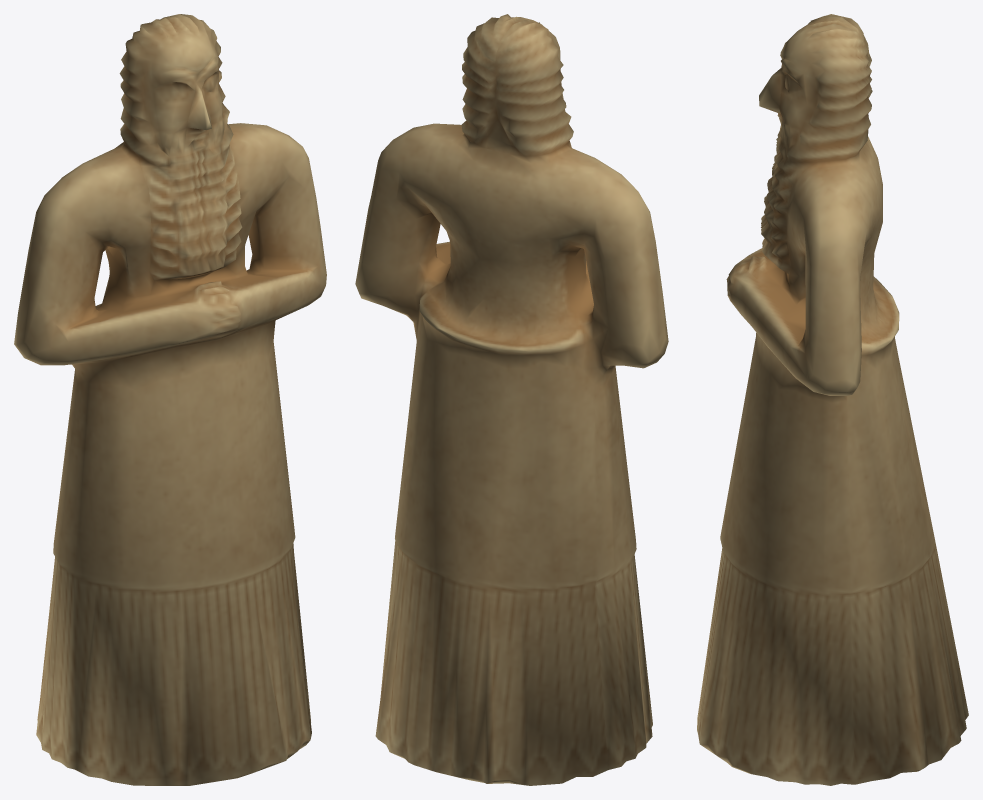
The model's file is MaleWorshipper_GA.fbx.
3 renders of one model, left to right at view 1: azimuth 30°, elevation 25°; view 2: azimuth 150°, elevation 25°; view 3: azimuth 270°, elevation 25°, orthographic.
Parts seen in each view (by area): view 1: MaleWorshipper_GA; view 2: MaleWorshipper_GA; view 3: MaleWorshipper_GA.
Boxes of the visible parts, x1,y1,x2,y2 form: MaleWorshipper_GA: (14,14,326,785); MaleWorshipper_GA: (355,14,668,785); MaleWorshipper_GA: (697,14,968,785).
Bounding box in the file's own units: 6.2 × 14.02 × 4.9.
